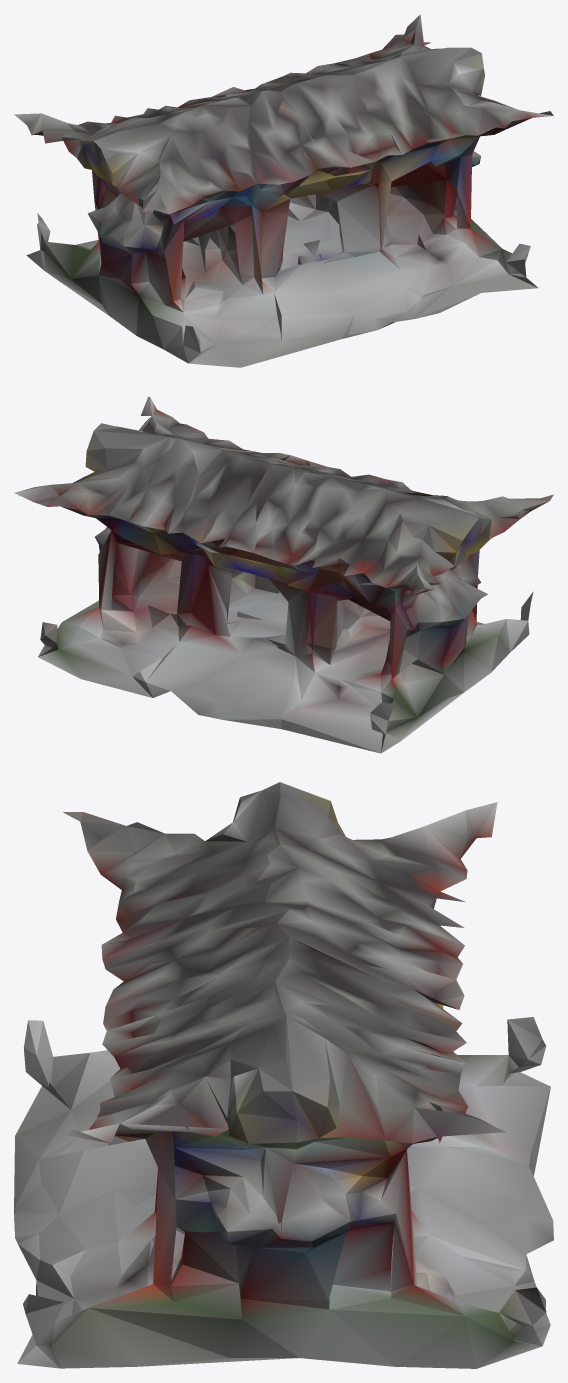
The model's file is lib_paifang.vc2.glb.
The picture shows the model from 3 angles, top to bottom: view 1: azimuth 30°, elevation 25°; view 2: azimuth 150°, elevation 25°; view 3: azimuth 270°, elevation 25°; orthographic projection. The views are drawn at different scales.
Parts seen in each view (by area): view 1: lib_paifang; view 2: lib_paifang; view 3: lib_paifang.
Boxes of the visible parts, <box> form: lib_paifang: <box>14,14,553,367</box>; lib_paifang: <box>14,396,553,753</box>; lib_paifang: <box>14,782,553,1368</box>.
Bounding box in the file's own units: 1.79 × 0.7998 × 1.25.
